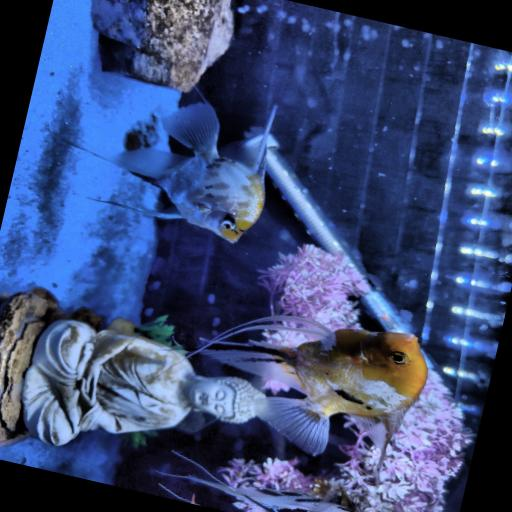Fish: (202, 316, 426, 467), (63, 103, 273, 242), (186, 477, 358, 511)
